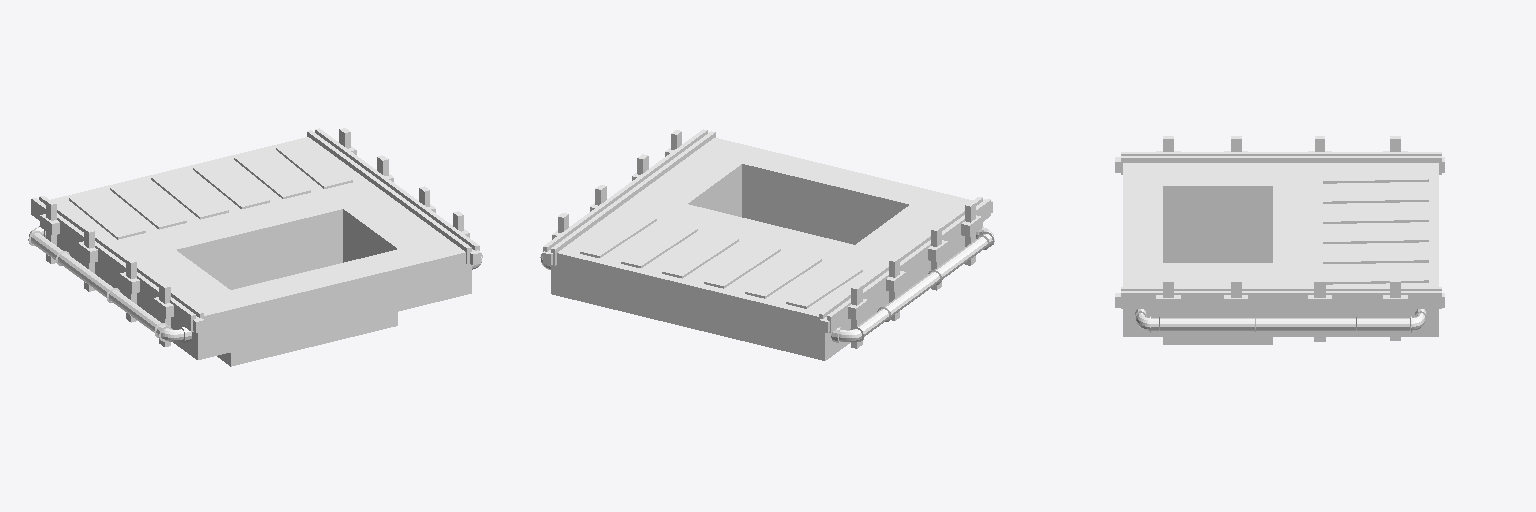
The model's file is platform_cub_kazarma2.obj.
3 views of the same model, side by side, from view 1: azimuth 30°, elevation 25°; view 2: azimuth 150°, elevation 25°; view 3: azimuth 270°, elevation 25° (orthographic).
Visible parts, largest first — view 1: RailElevator_elevator_2_Mesh; view 2: RailElevator_elevator_2_Mesh; view 3: RailElevator_elevator_2_Mesh.
Boxes of the visible parts, x1=… form: RailElevator_elevator_2_Mesh: x1=28, y1=128, x2=482, y2=366; RailElevator_elevator_2_Mesh: x1=540, y1=129, x2=994, y2=360; RailElevator_elevator_2_Mesh: x1=1115, y1=136, x2=1444, y2=344.
Bounding box in the file's own units: 7.7 × 2.16 × 6.8.